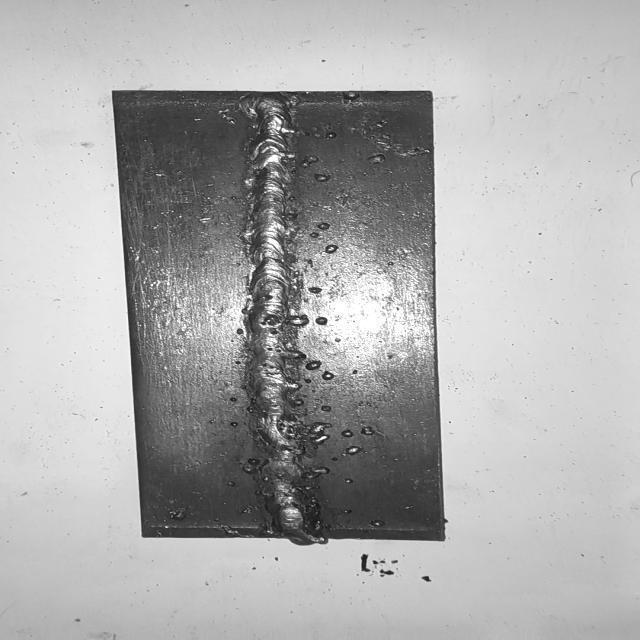Defect: (232, 408, 332, 531)
Welding Line: (242, 90, 316, 534)
Workpiece: (106, 86, 453, 548)
